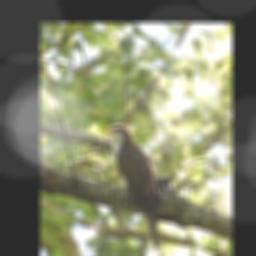Cuckoo: (98, 123, 163, 252)
